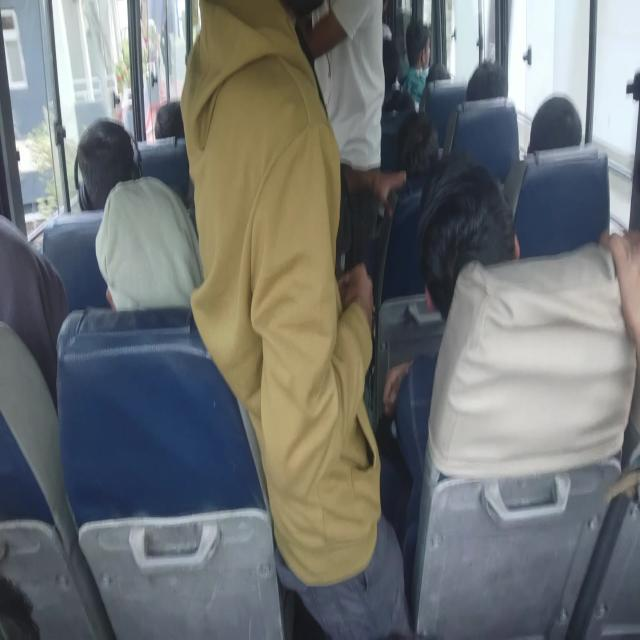person: (179, 0, 413, 638), (378, 161, 520, 557), (293, 0, 407, 269), (418, 161, 520, 321), (95, 175, 204, 312), (74, 116, 138, 212), (395, 110, 439, 180), (398, 19, 431, 109), (466, 59, 506, 101)
